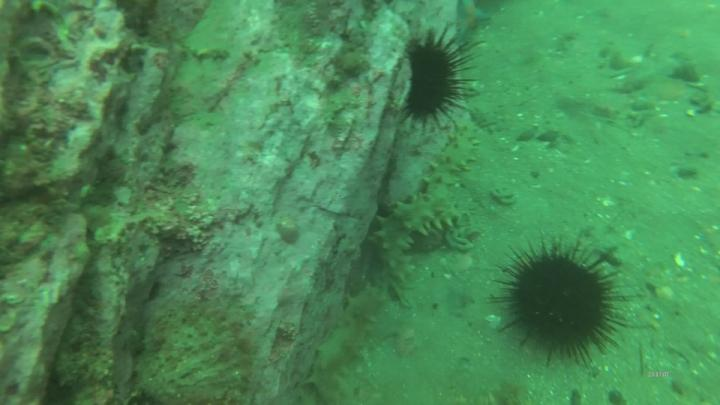echinus: (500, 239, 625, 365), (401, 32, 462, 125)
holothurian: (306, 274, 389, 405), (370, 193, 459, 282), (424, 117, 483, 205)
